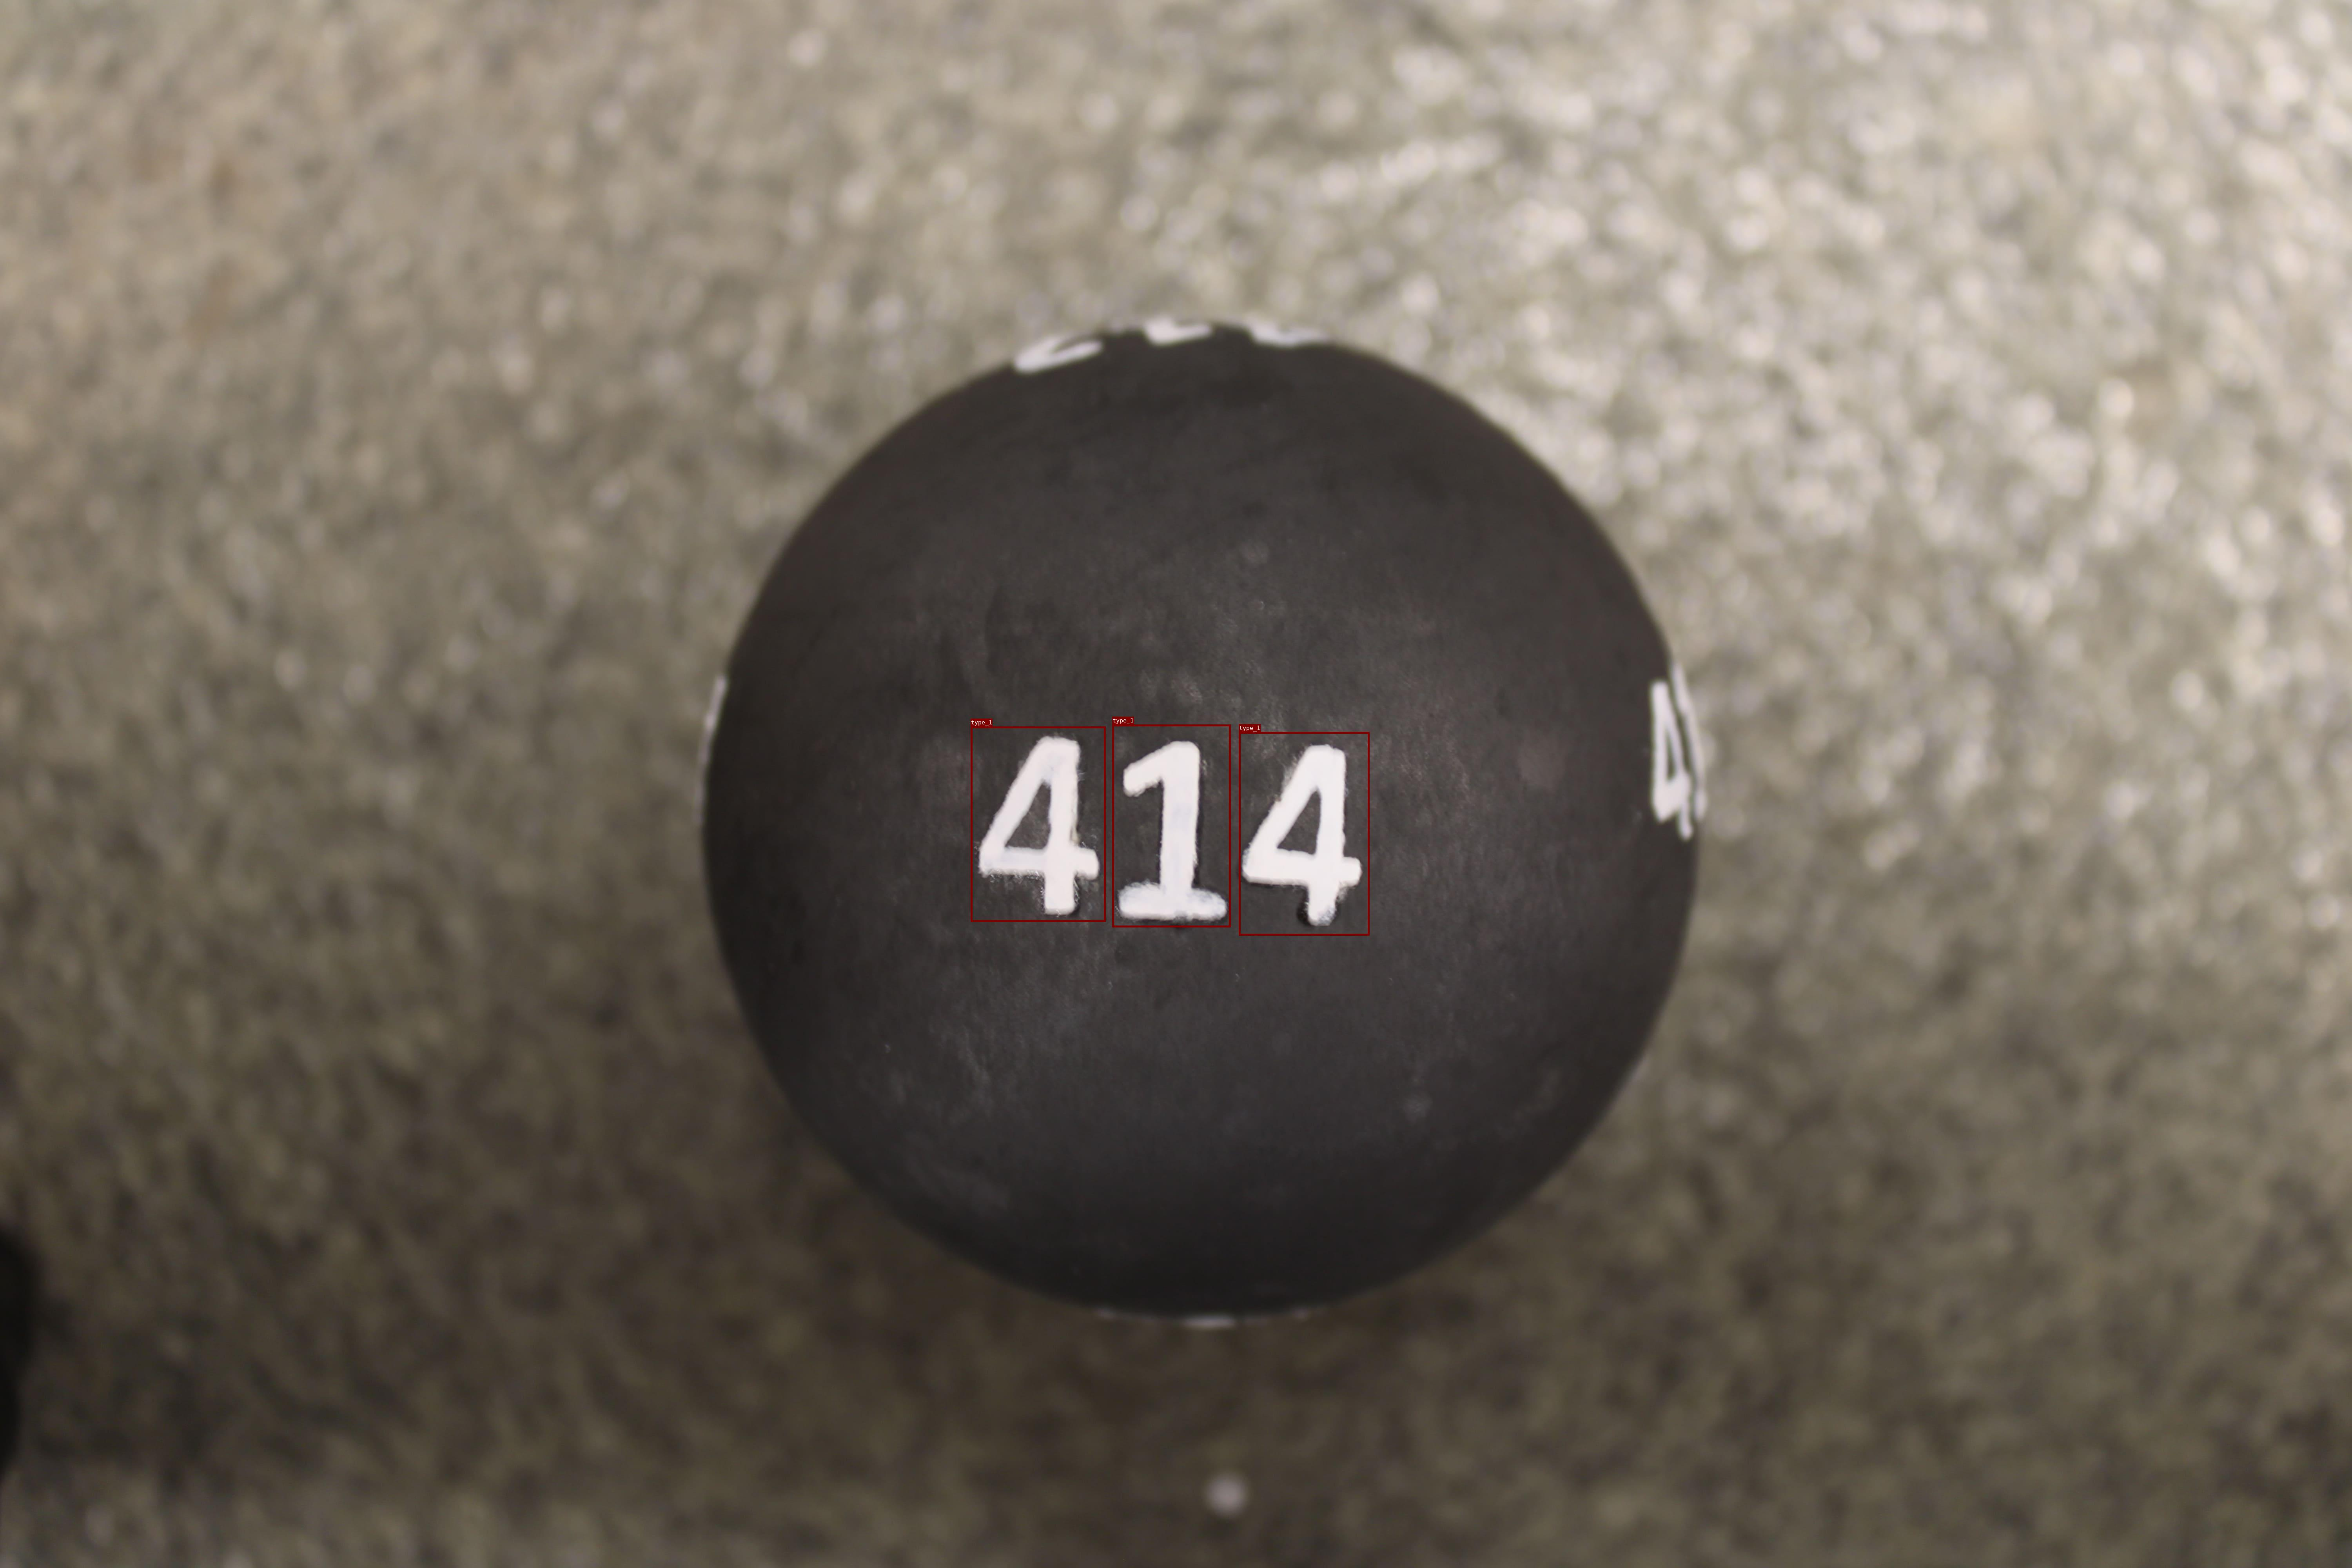type_1: (971, 726, 1106, 922), (1239, 732, 1369, 935), (1111, 724, 1230, 927)
